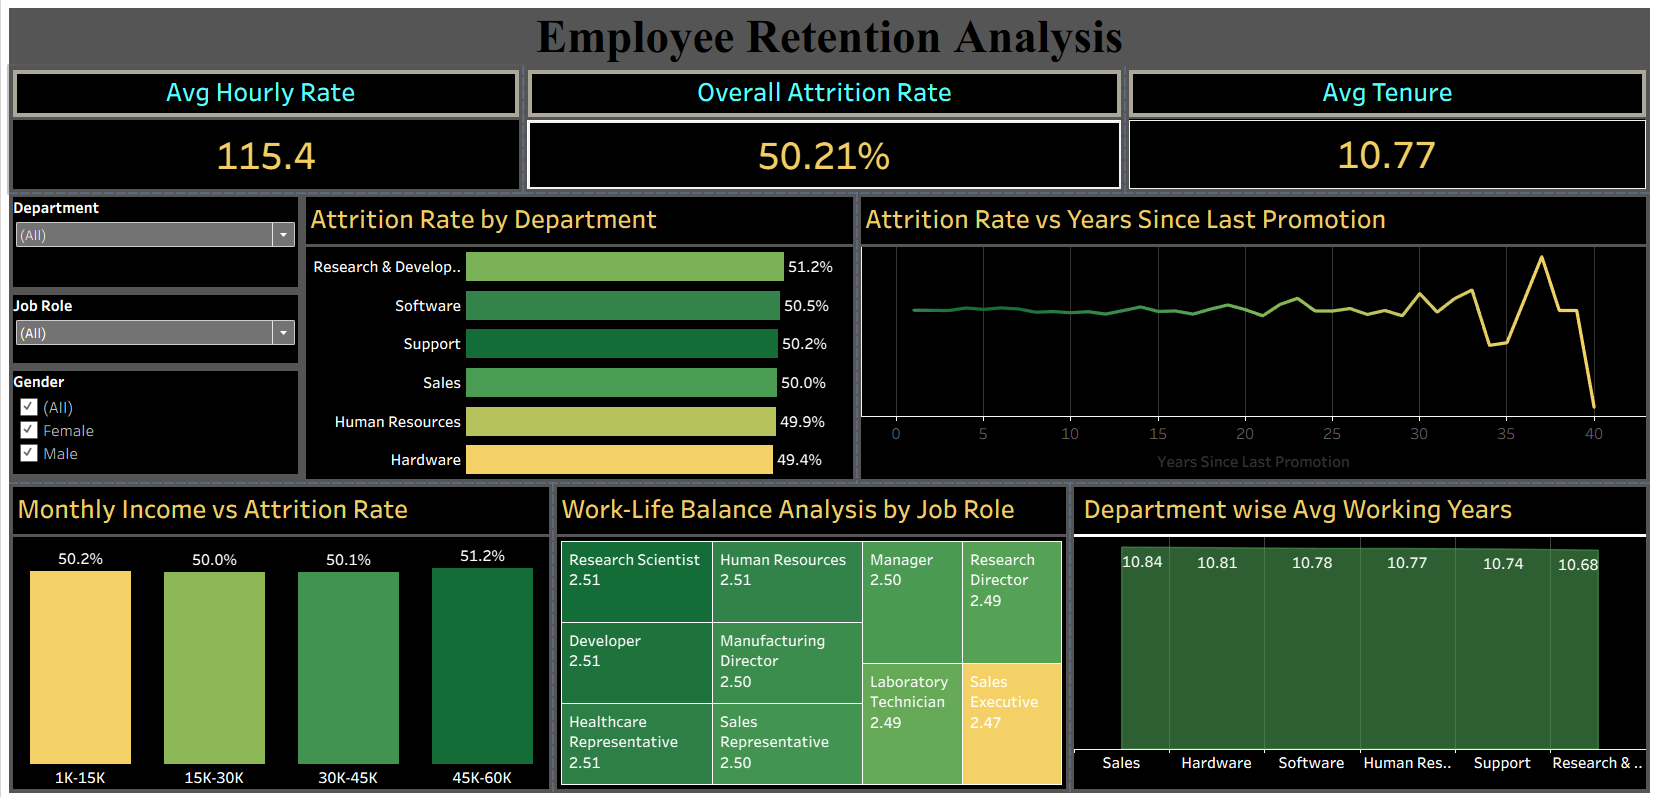

This screenshot's page, from the dashboard's own definition file:
{"tool":"tableau","page":{"name":"Dashboard 2","canvas":[1000,1000],"units":"permille","ordinal":0},"visuals":[{"type":"text","box":[4.8,10,990.3,72.4]},{"type":"worksheet","title":"kpi 2","mark":"Automatic","box":[4.8,82.4,310.2,158]},{"type":"worksheet","title":"kpi card1","mark":"Automatic","box":[315,82.4,363.3,158]},{"type":"worksheet","title":"kpi card2","mark":"Automatic","box":[678.3,82.4,316.9,158]},{"type":"filter","title":"kpi1","param":"[federated.0qxdr1k0g59njm14p5t221vke8ab].[none:Department:nk]","box":[4.8,240.4,176.8,122.4]},{"type":"worksheet","title":"kpi1","mark":"Automatic","rows":["Department"],"cols":["Calculation_600386138253148161"],"box":[181.7,240.4,334.9,362.6]},{"type":"worksheet","title":"kpi6","mark":"Automatic","rows":["Calculation_600386138253148161"],"cols":["YearsSinceLastPromotion"],"box":[516.6,240.4,478.6,362.6]},{"type":"filter","title":"kpi5","param":"[federated.0qxdr1k0g59njm14p5t221vke8ab].[none:JobRole:nk]","box":[4.8,362.7,176.8,94.9]},{"type":"filter","title":"kpi6","param":"[federated.0qxdr1k0g59njm14p5t221vke8ab].[none:Gender:nk]","box":[4.8,457.6,176.8,138.6]},{"type":"worksheet","title":"kpi3","mark":"Automatic","rows":["Calculation_600386138253148161"],"cols":["Calculation_600386138265264130"],"box":[4.8,603,328.3,387]},{"type":"worksheet","title":"kpi5","mark":"Square","box":[333.1,603,312,387]},{"type":"worksheet","title":"kpi4","mark":"Area","rows":["YearsAtCompany"],"cols":["Department"],"box":[645.1,603,350,387]}]}

Visuals, with their boxes on the dashboard's canvas, which has no fixed pixel size, in thousandths of its width and height (x1, y1, x2, y2). These are canvas units, not pixel positions in the 1657x797 screenshot, which may show the page scaled, cropped or inside an application window:
text: left=5, top=10, right=995, bottom=82
"kpi 2" worksheet: left=5, top=82, right=315, bottom=240
"kpi card1" worksheet: left=315, top=82, right=678, bottom=240
"kpi card2" worksheet: left=678, top=82, right=995, bottom=240
"kpi1" filter: left=5, top=240, right=182, bottom=363
"kpi1" worksheet: left=182, top=240, right=517, bottom=603
"kpi6" worksheet: left=517, top=240, right=995, bottom=603
"kpi5" filter: left=5, top=363, right=182, bottom=458
"kpi6" filter: left=5, top=458, right=182, bottom=596
"kpi3" worksheet: left=5, top=603, right=333, bottom=990
"kpi5" worksheet (Square marks): left=333, top=603, right=645, bottom=990
"kpi4" worksheet (Area marks): left=645, top=603, right=995, bottom=990
